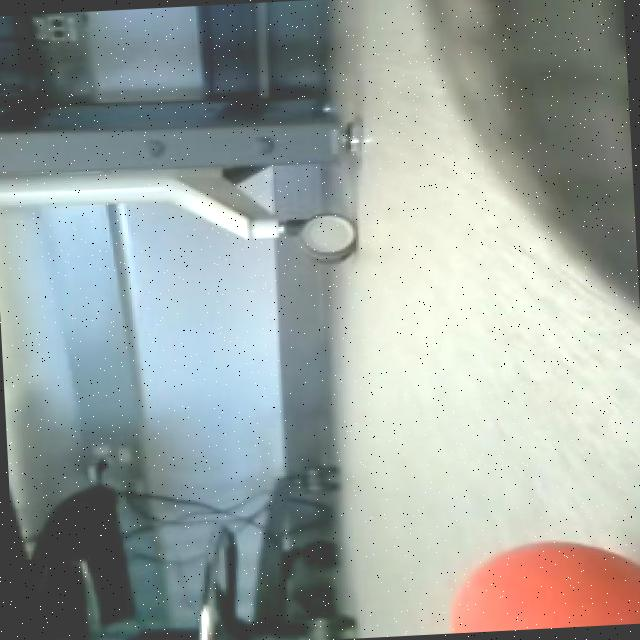ping-pong-ball: (439, 535, 640, 633)
